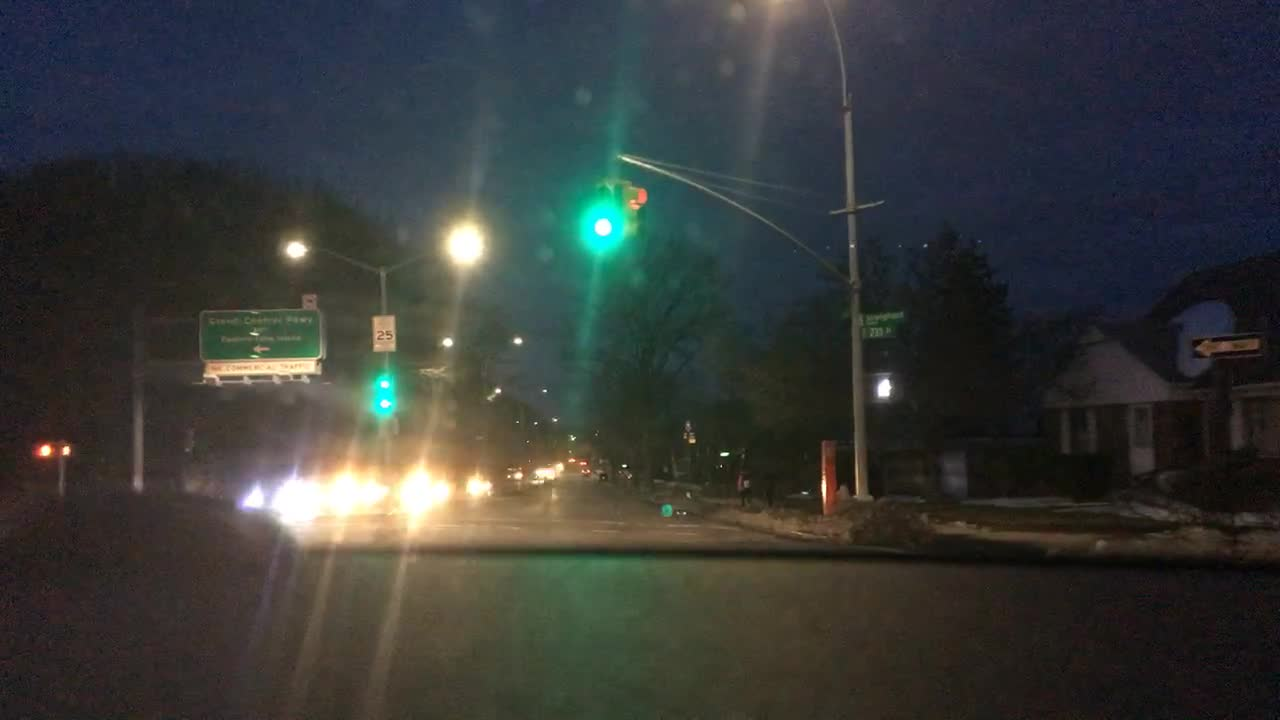car: (447, 472, 491, 497), (503, 468, 533, 488), (530, 469, 555, 486), (580, 464, 590, 475), (598, 471, 608, 481)
person: (735, 449, 753, 505)
traffic light: (617, 185, 647, 237), (591, 185, 615, 237), (872, 372, 895, 400), (378, 375, 392, 410), (57, 439, 74, 459), (37, 440, 54, 458)
traffic sign: (198, 307, 323, 360), (1187, 332, 1261, 359), (201, 359, 321, 375), (370, 314, 397, 351), (860, 312, 907, 325), (862, 327, 891, 339), (300, 294, 317, 307)
